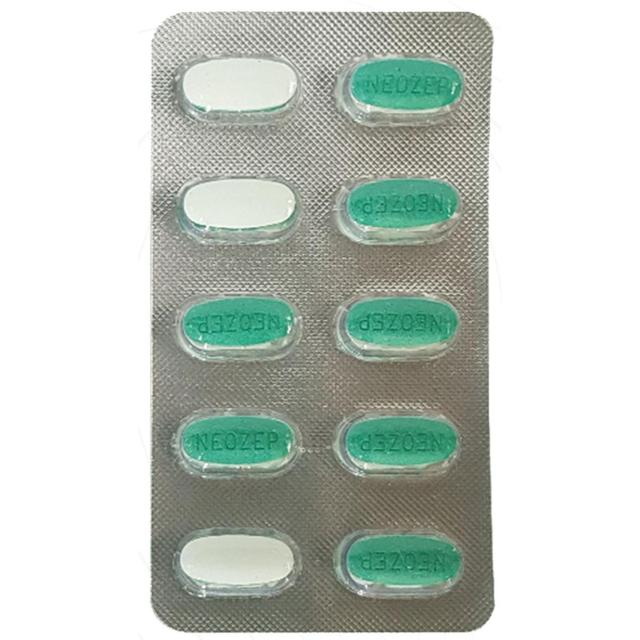blister: (143, 4, 500, 630)
